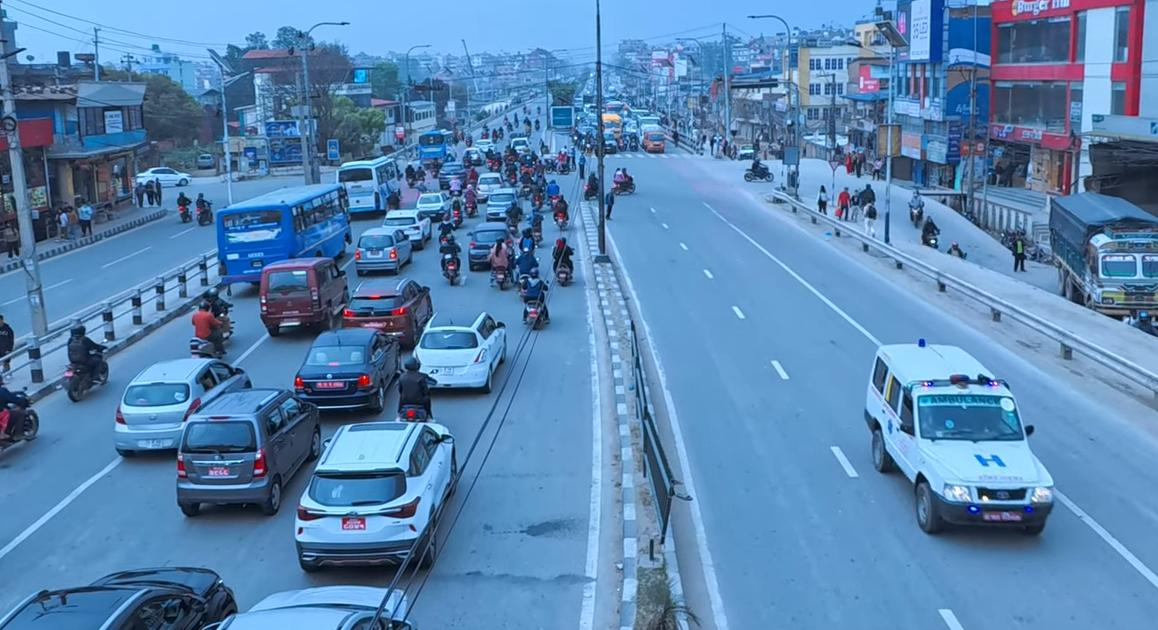ambulance: (858, 337, 1063, 550)
car: (295, 416, 467, 575), (291, 324, 408, 416), (409, 308, 512, 394), (342, 278, 439, 338), (349, 226, 417, 280), (465, 219, 514, 271), (135, 164, 195, 192)
truck: (1042, 185, 1158, 328)
